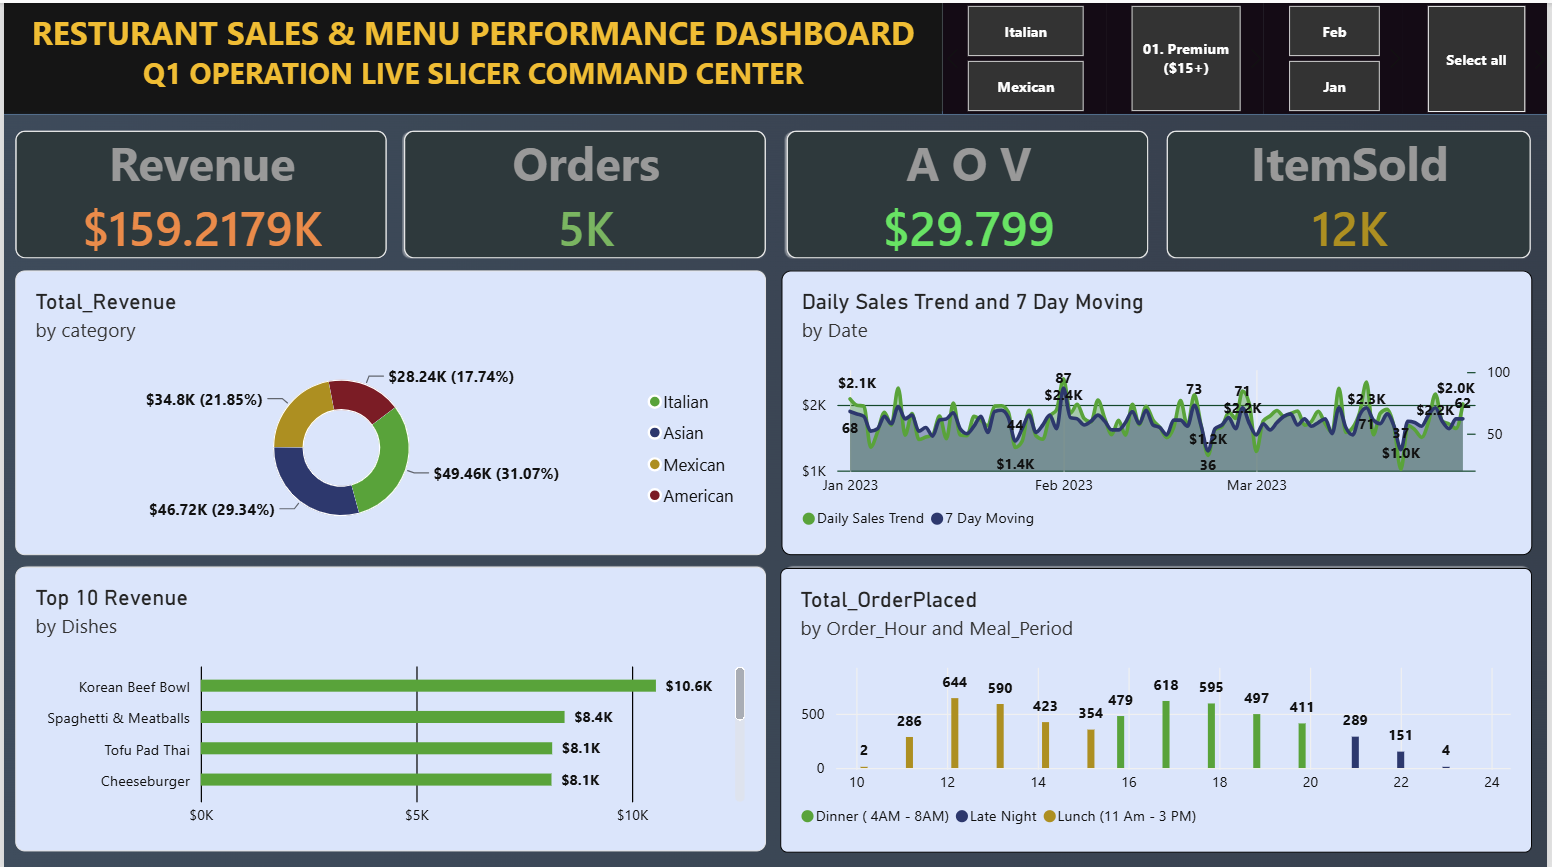

The page's visual inventory and layout, read from the dashboard file:
{"tool":"powerbi","page":{"name":"Page 1","canvas":[1280,720],"ordinal":0},"visuals":[{"type":"textbox","box":[10,0,280,280],"z":0},{"type":"textbox","box":[0,0,777.9,91.9],"z":1000},{"type":"cardVisual","fields":{"Data":["Resturant_Measures.Total_Revenue"]},"box":[9.8,106.1,308.5,106.1],"z":2000},{"type":"cardVisual","fields":{"Data":["Resturant_Measures.Average_OrderValue (AOV)"]},"box":[648.8,106.1,300,106.1],"z":3000},{"type":"cardVisual","fields":{"Data":["Resturant_Measures.Total_OrderPlaced"]},"box":[331.7,106.1,300,106.1],"z":4000},{"type":"cardVisual","fields":{"Data":["Resturant_Measures.Total_ItemSold"]},"box":[963.4,106.1,302.4,106.1],"z":5000},{"type":"donutChart","fields":{"Category":["Dim_Menu.category"],"Y":["Resturant_Measures.Total_Revenue"]},"box":[9.3,222.1,622.1,236],"z":6000},{"type":"areaChart","fields":{"Category":["Dim_Date.Date"],"Y":["Resturant_Measures.Total_Revenue"],"Y2":["Resturant_Measures.Total_OrderPlaced"]},"box":[644.2,222.1,622.1,236],"z":7000},{"type":"clusteredBarChart","fields":{"Category":["Dim_Menu.item_name"],"Y":["Resturant_Measures.Total_Revenue"]},"box":[9.3,467.4,622,236],"z":8000},{"type":"clusteredColumnChart","fields":{"Category":["Fact_OrderDetails.Order_Hour"],"Y":["Resturant_Measures.Total_OrderPlaced"],"Series":["Fact_OrderDetails.Meal_Period"]},"box":[643.6,467.9,623,236],"z":9000},{"type":"slicer","fields":{"Values":["Dim_Menu.category"]},"box":[777.9,0,136,91.9],"z":10000},{"type":"slicer","fields":{"Values":["Dim_Menu.Price Tier"]},"box":[914,0,130.2,91.9],"z":11000},{"type":"slicer","fields":{"Values":["Dim_Date.Month_Short"]},"box":[1044.6,0,115.1,91.9],"z":12000},{"type":"slicer","fields":{"Values":["Fact_OrderDetails.Meal_Period"]},"box":[1159.6,0,120.2,92.2],"z":13000}]}

Visuals, with their boxes in screenshot pixels (x1, y1, x2, y2), scaled from the page's 1280x720 canvas onto the 1552x867 screenshot:
textbox: <region>12, 0, 352, 337</region>
textbox: <region>0, 0, 943, 111</region>
cardVisual - Resturant_Measures.Total_Revenue: <region>12, 128, 386, 256</region>
cardVisual - Resturant_Measures.Average_OrderValue (AOV): <region>787, 128, 1150, 256</region>
cardVisual - Resturant_Measures.Total_OrderPlaced: <region>402, 128, 766, 256</region>
cardVisual - Resturant_Measures.Total_ItemSold: <region>1168, 128, 1535, 256</region>
donutChart - Dim_Menu.category x Resturant_Measures.Total_Revenue: <region>11, 267, 766, 552</region>
areaChart - Dim_Date.Date x Resturant_Measures.Total_Revenue: <region>781, 267, 1535, 552</region>
clusteredBarChart - Dim_Menu.item_name x Resturant_Measures.Total_Revenue: <region>11, 563, 765, 847</region>
clusteredColumnChart - Fact_OrderDetails.Order_Hour x Resturant_Measures.Total_OrderPlaced: <region>780, 563, 1536, 848</region>
slicer - Dim_Menu.category: <region>943, 0, 1108, 111</region>
slicer - Dim_Menu.Price Tier: <region>1108, 0, 1266, 111</region>
slicer - Dim_Date.Month_Short: <region>1267, 0, 1406, 111</region>
slicer - Fact_OrderDetails.Meal_Period: <region>1406, 0, 1551, 111</region>
